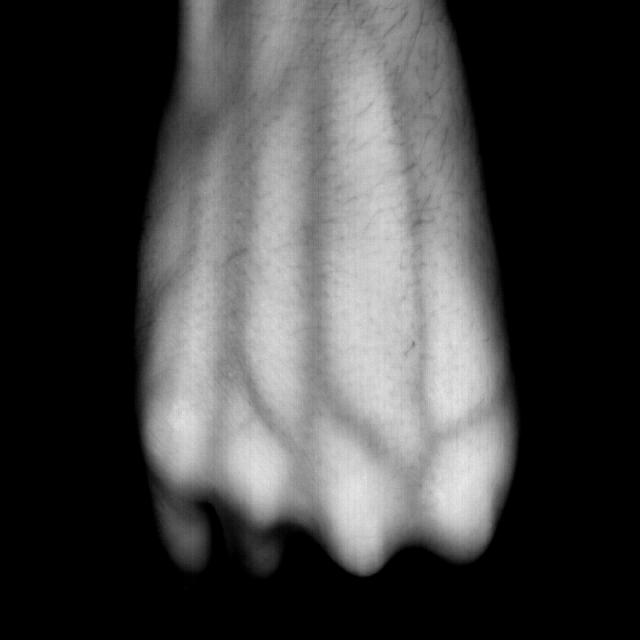Vein: (216, 29, 440, 484)
